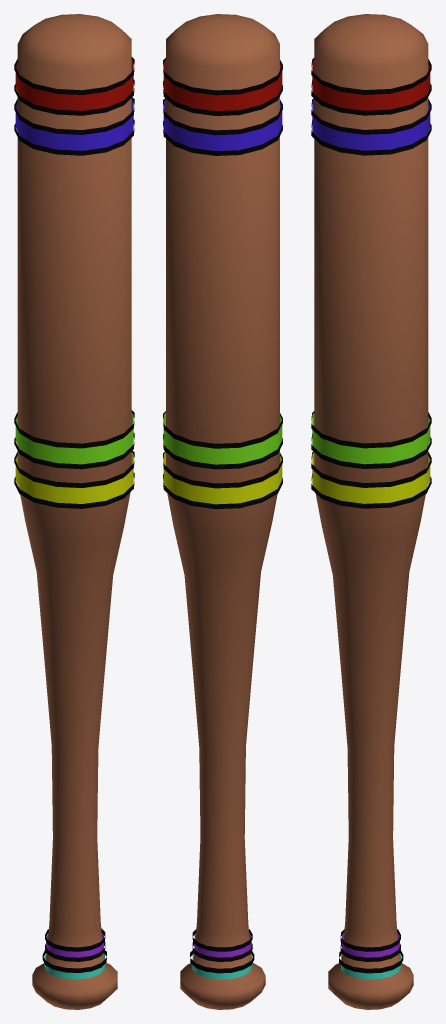
File: Bat.fbx
The picture shows the model from 3 angles, left to right: view 1: azimuth 90°, elevation 25°; view 2: azimuth 150°, elevation 25°; view 3: azimuth 270°, elevation 25°; orthographic projection.
Visible parts, largest first — view 1: Circle, Plane; view 2: Circle, Plane; view 3: Circle, Plane.
Boxes of the visible parts, x1=… form: Circle: x1=15, y1=14, x2=133, y2=1009; Plane: x1=14, y1=57, x2=134, y2=972; Circle: x1=163, y1=14, x2=282, y2=1009; Plane: x1=163, y1=58, x2=282, y2=973; Circle: x1=312, y1=14, x2=430, y2=1009; Plane: x1=311, y1=58, x2=431, y2=973.
Size of the model in its own units: 43.57 by 391 by 43.8.
